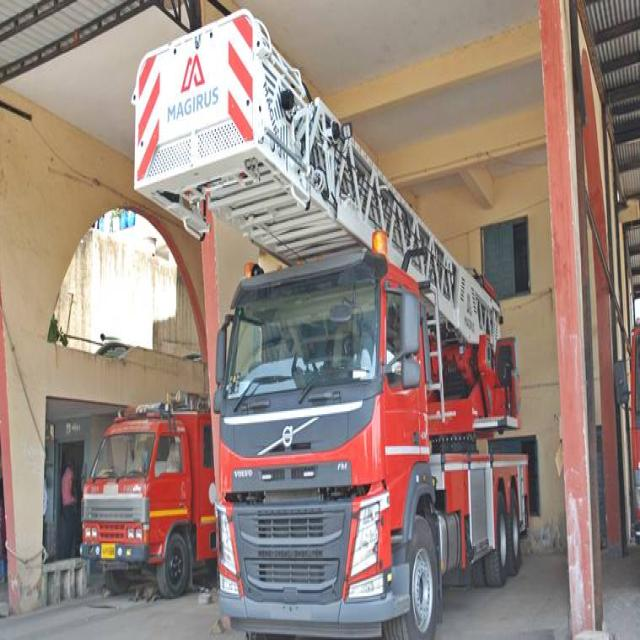emergency: (135, 11, 529, 637)
truck: (80, 393, 215, 596)
